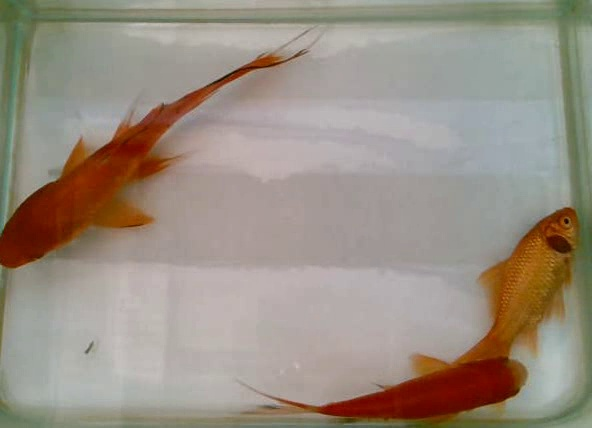alive_fish: (1, 19, 312, 272), (227, 347, 530, 428)
dead_fish: (446, 206, 590, 420)
